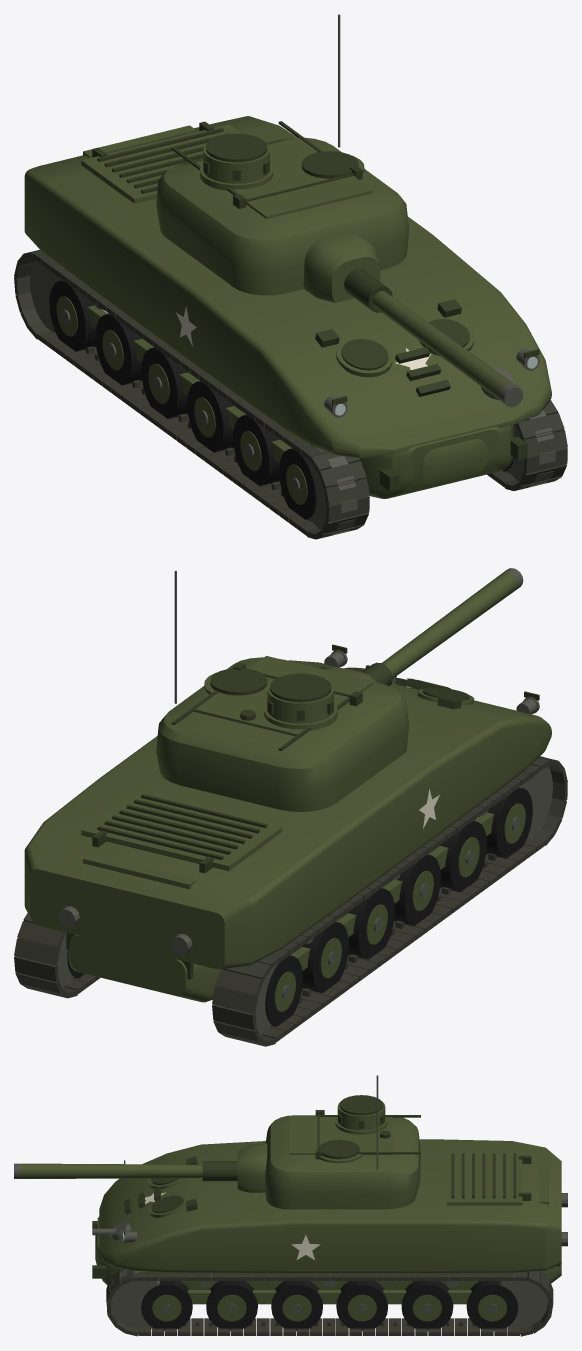
File: m4a1_sherman.glb
3 views of the same model, one above another, from view 1: azimuth 30°, elevation 25°; view 2: azimuth 150°, elevation 25°; view 3: azimuth 270°, elevation 25° (orthographic). The views are drawn at different scales.
Visible parts, largest first — view 1: Hull_Upper, Turret_Body, Track_L, RoofPlate, Hull_Lower, Mantlet, GunBarrel, Track_R, EnginePanel, FinalDrive, Cupola, Tire_L_4 (+14 smaller); view 2: Hull_Upper, Turret_Body, Track_L, Hull_Lower, EnginePanel, RoofPlate, Track_R, GunBarrel, Cupola, Tire_L_3, Tire_L_1, Tire_L_0 (+16 smaller); view 3: Hull_Upper, Turret_Body, Track_R, EnginePanel, GunBarrel, RoofPlate, Hull_Lower, Tire_R_4, Tire_R_1, Tire_R_3, Tire_R_2, Tire_R_5 (+18 smaller).
Boxes of the visible parts, x1,y1,x2,y2 form: Hull_Upper: (24,116,551,458); Turret_Body: (156,137,408,295); Track_L: (14,249,369,539); RoofPlate: (195,137,372,218); Hull_Lower: (149,343,513,498); Mantlet: (303,232,380,302); GunBarrel: (372,291,514,401); Track_R: (487,400,567,491); EnginePanel: (81,124,241,203); FinalDrive: (421,439,487,484); Cupola: (200,142,273,190); Tire_L_4: (95,313,149,385); Hull_Upper: (24,660,551,969); Turret_Body: (156,657,408,811); Track_L: (212,756,567,1046); Hull_Lower: (68,817,478,1002); EnginePanel: (81,791,282,871); RoofPlate: (193,656,372,736); Track_R: (14,913,100,998); GunBarrel: (381,572,518,678); Cupola: (264,682,337,730); Tire_L_3: (341,888,394,959); Tire_L_1: (433,821,486,892); Tire_L_0: (479,787,532,858); Hull_Upper: (99,1139,561,1272); Turret_Body: (265,1115,420,1209); Track_R: (106,1268,553,1336); EnginePanel: (447,1151,522,1205); GunBarrel: (21,1163,202,1178); RoofPlate: (289,1116,392,1154); Hull_Lower: (97,1216,561,1289); Tire_R_4: (401,1278,453,1330); Tire_R_1: (206,1279,257,1331); Tire_R_3: (336,1278,387,1331); Tire_R_2: (271,1278,322,1331); Tire_R_5: (466,1278,518,1330).
Bounding box in the file's own units: 2.51 × 3.44 × 6.97.
